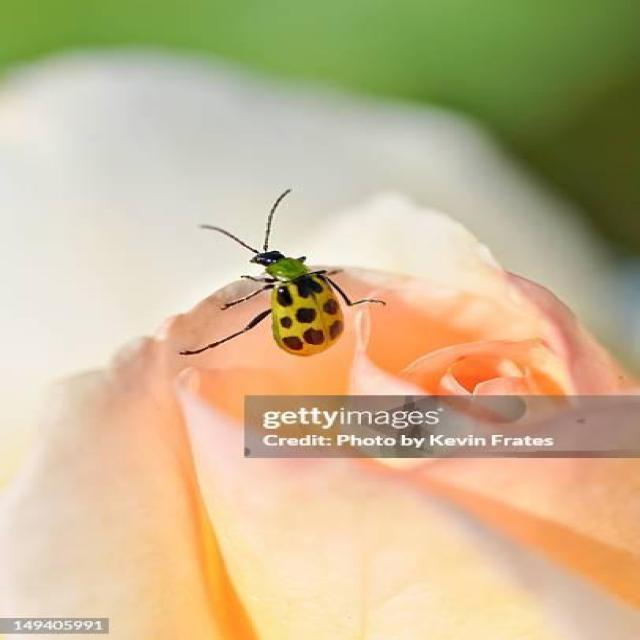trips: (175, 190, 386, 358)
